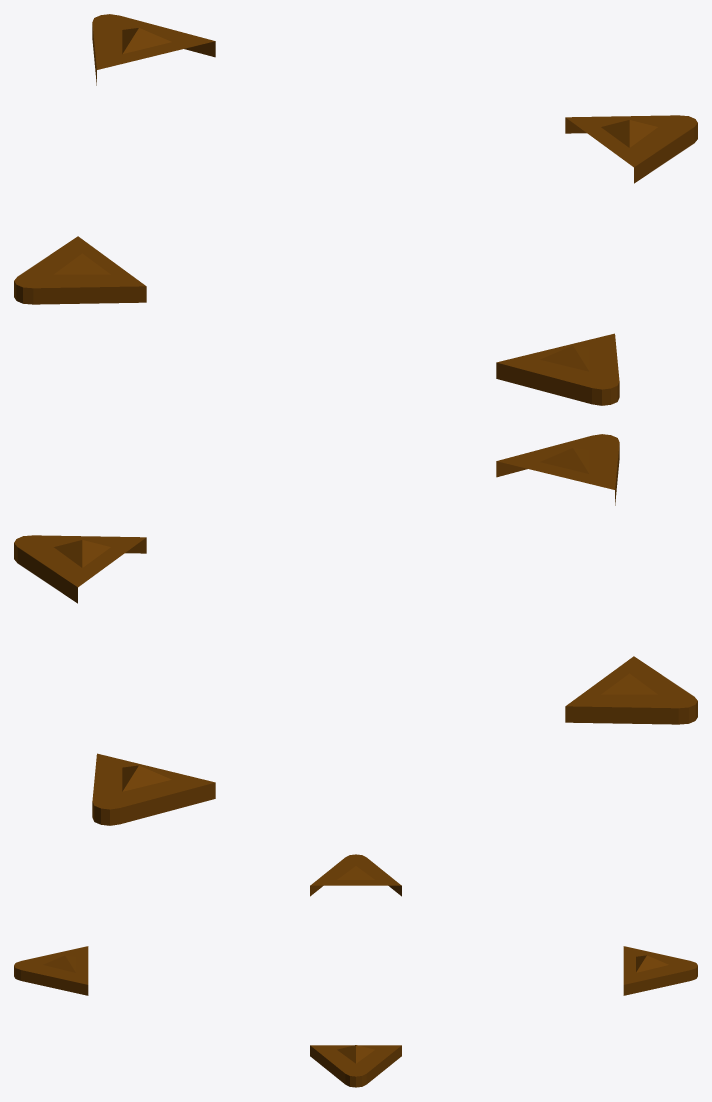
File: Card_FlipMesh01.fbx
3 views of the same model, one above another, from view 1: azimuth 30°, elevation 25°; view 2: azimuth 150°, elevation 25°; view 3: azimuth 270°, elevation 25° (orthographic). The views are drawn at different scales.
Visible parts, largest first — view 1: Card_FlipMesh01; view 2: Card_FlipMesh01; view 3: Card_FlipMesh01.
Boxes of the visible parts, x1,y1,x2,y2 form: Card_FlipMesh01: [14, 14, 697, 405]; Card_FlipMesh01: [14, 434, 697, 825]; Card_FlipMesh01: [14, 854, 697, 1087].
Bounding box in the file's own units: 1.55 × 0.0685 × 2.01.
